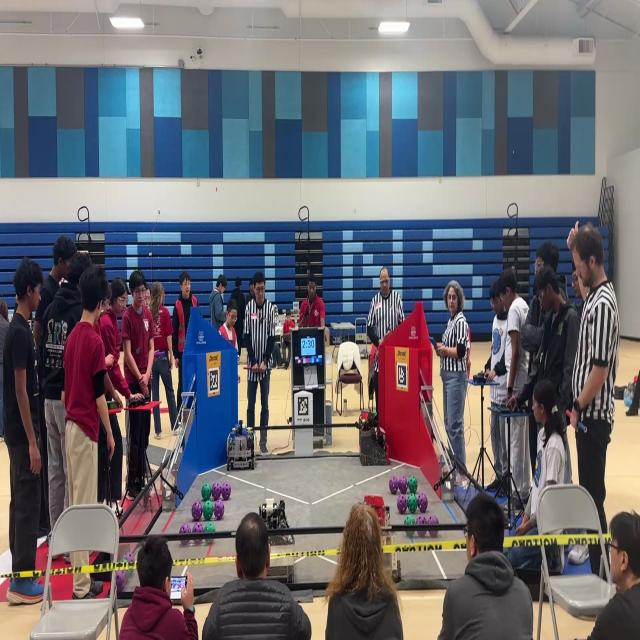artifact_green: (203, 501, 213, 520), (407, 494, 417, 513), (408, 476, 417, 493), (202, 483, 211, 500), (122, 552, 135, 563), (180, 523, 191, 534), (204, 523, 215, 533), (404, 515, 415, 525), (405, 515, 415, 525), (418, 530, 426, 537), (194, 539, 203, 545), (126, 570, 132, 579)
artifact_purple: (213, 500, 224, 520), (116, 571, 126, 593), (192, 501, 202, 521), (397, 494, 407, 513), (418, 493, 427, 513), (212, 482, 221, 501), (222, 482, 231, 500), (389, 476, 398, 494), (123, 552, 135, 564), (399, 476, 407, 493), (123, 552, 135, 563), (192, 522, 204, 533), (180, 523, 191, 533), (404, 515, 415, 525), (427, 515, 438, 524), (418, 530, 426, 537)
